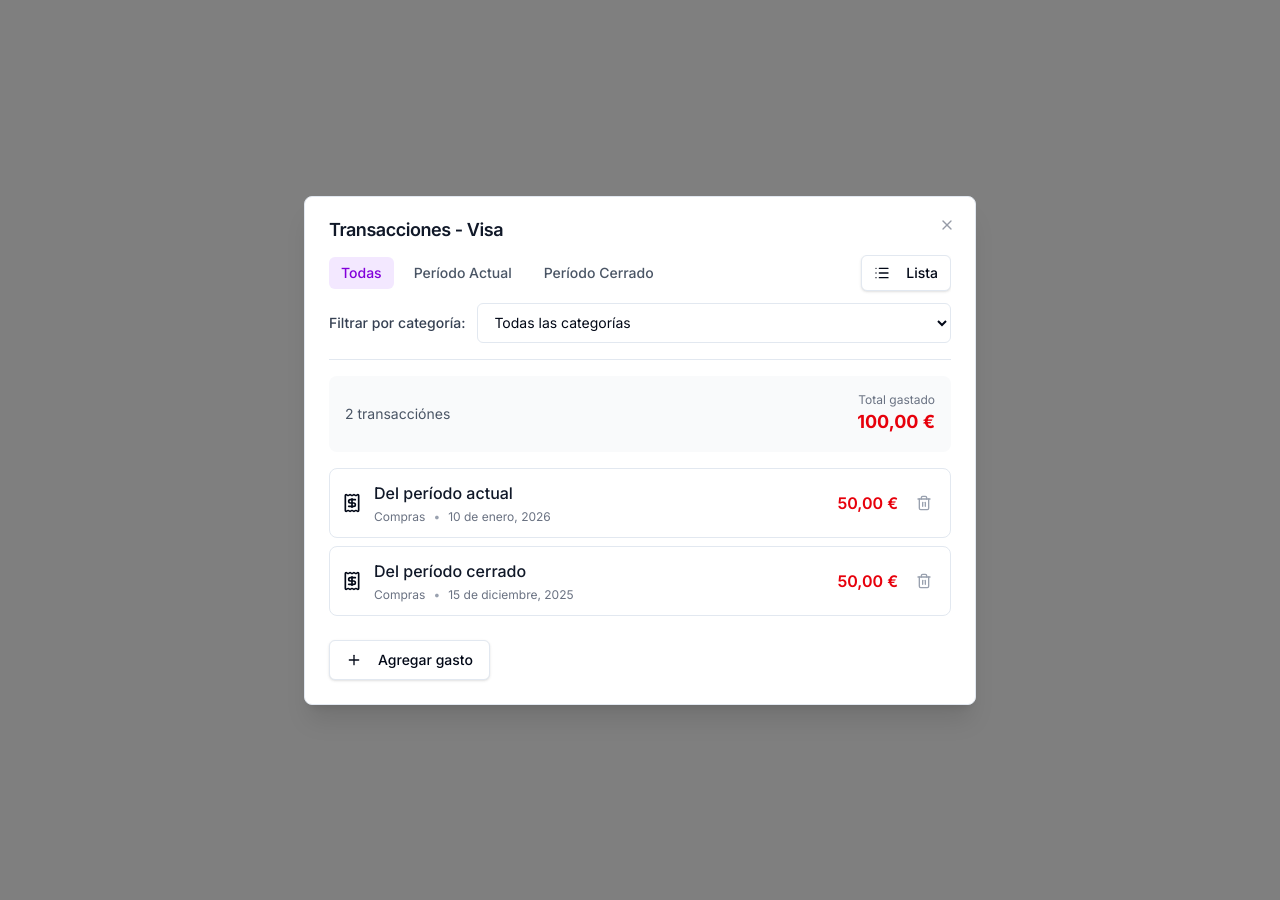
it: CreditCardTransactionsModal › filtro "Período Actual" excluye transacciones fuera de ese rango
Expected: the text "Del período actual" is shown, [374,480,513,504]
Click the button "Período Actual". click: (463, 272)
box: [402,256,524,288]
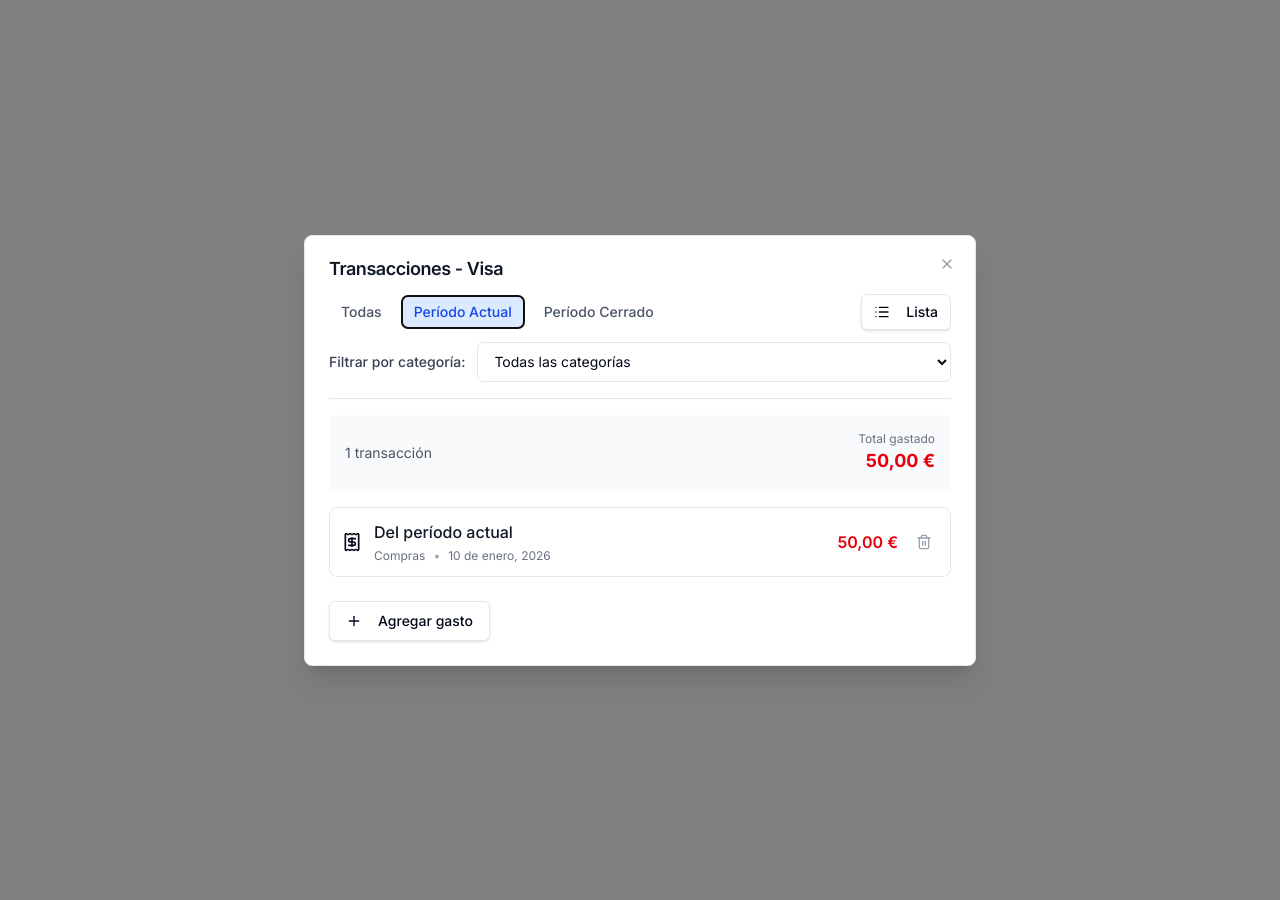
Expected: the text "Del período actual" is shown, [374,520,513,544]
Expected: the text "Del período cerrado" is gone
